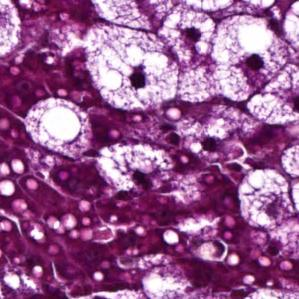ballooning: (80, 20, 184, 112), (211, 12, 290, 104), (24, 95, 95, 162), (234, 166, 295, 231)
